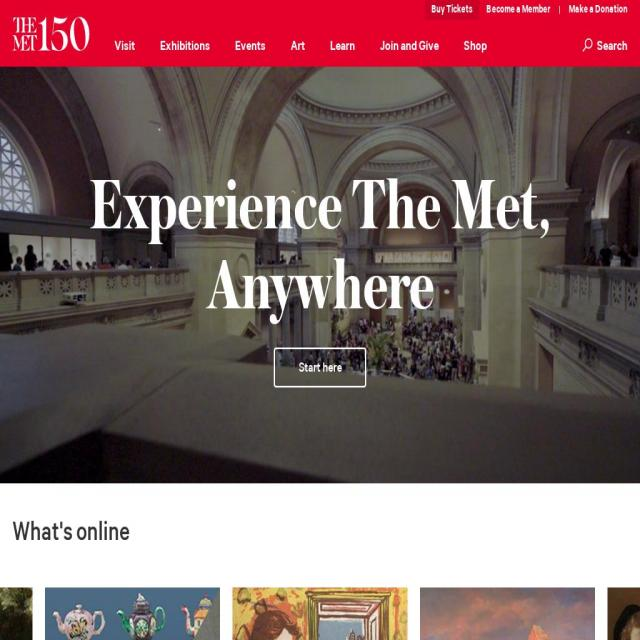navigation-blocks: (0, 583, 639, 640)
navigation-links: (110, 38, 491, 60), (430, 0, 630, 20)
search: (578, 35, 632, 58)
